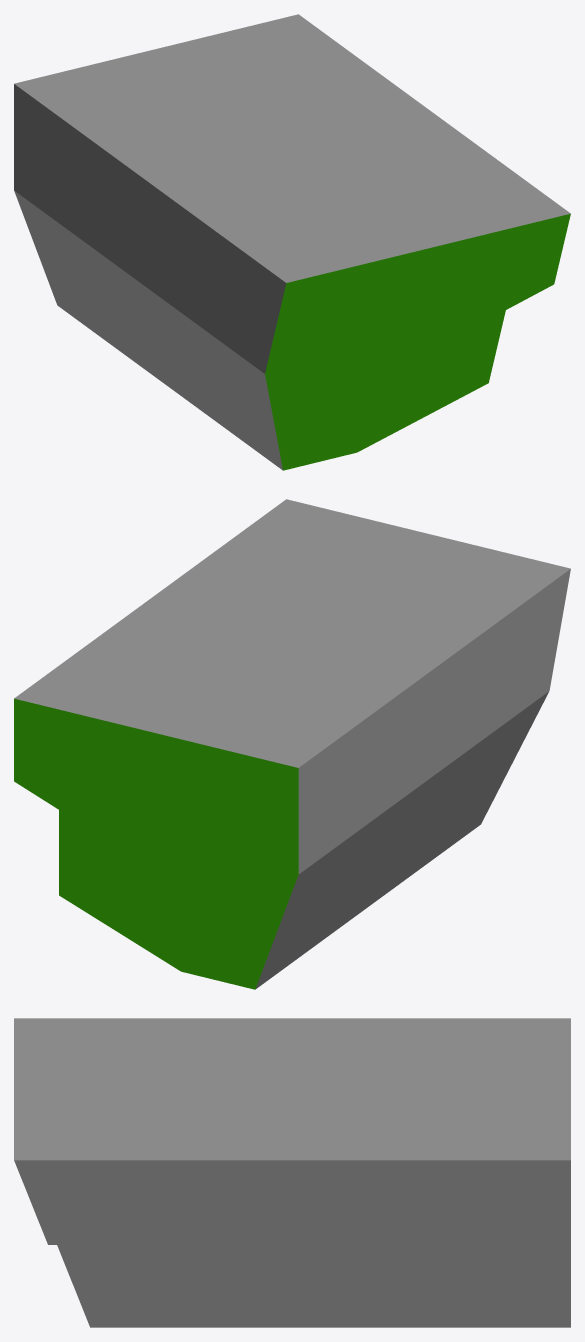
Rendered from SMB_groundS_A.fbx.
3 renders of one model, top to bottom at view 1: azimuth 30°, elevation 25°; view 2: azimuth 150°, elevation 25°; view 3: azimuth 270°, elevation 25°, orthographic. The views are drawn at different scales.
Visible parts, largest first — view 1: SMB_groundS_A; view 2: SMB_groundS_A; view 3: SMB_groundS_A.
Part boxes in pixels (bbox=[...]): SMB_groundS_A: bbox=[14, 14, 570, 470]; SMB_groundS_A: bbox=[14, 499, 570, 989]; SMB_groundS_A: bbox=[14, 1018, 570, 1327].
Bounding box in the file's own units: 941 × 734 × 1560.
